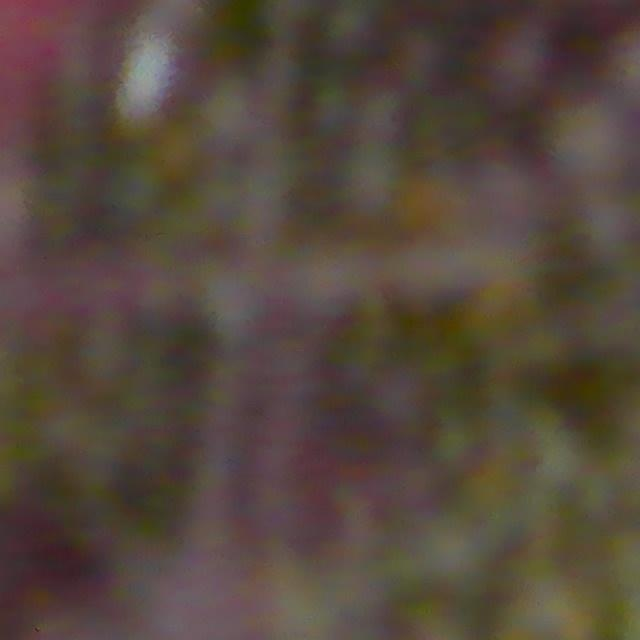SeaGrape: (547, 100, 632, 183), (475, 36, 550, 113)
